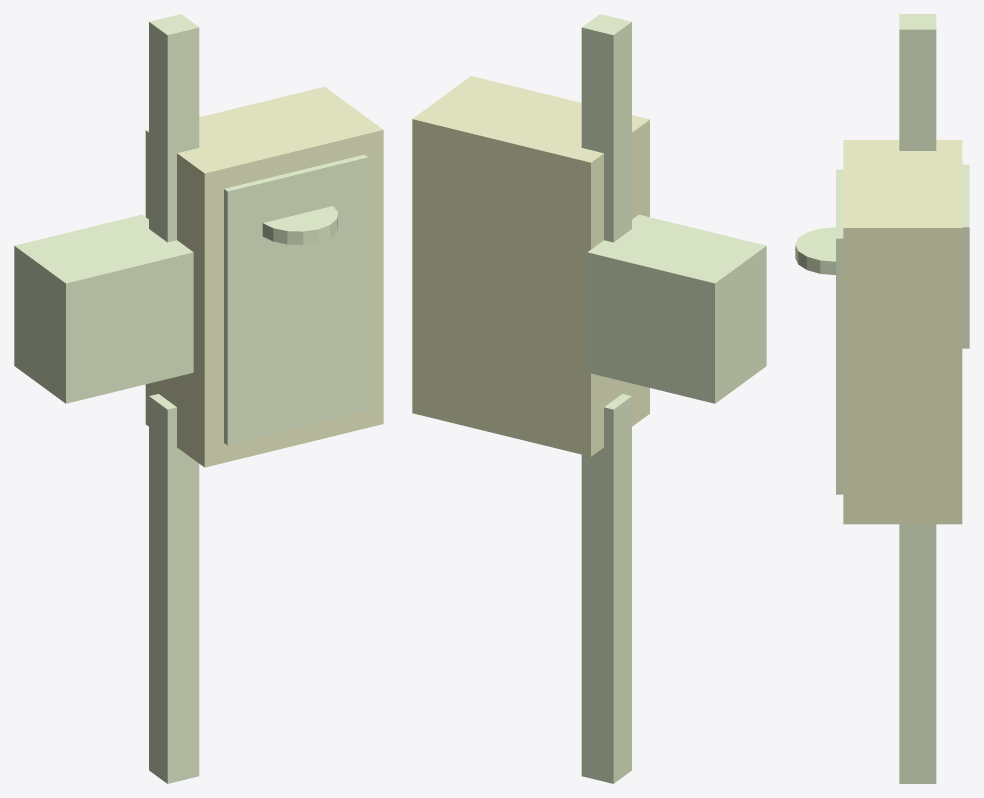
File: furniture_signal_service_disconnect.glb
3 renders of one model, left to right at view 1: azimuth 30°, elevation 25°; view 2: azimuth 150°, elevation 25°; view 3: azimuth 270°, elevation 25°, orthographic.
Visible parts, largest first — view 1: door, box, pole_band, conduit_lower, conduit_upper, meter_ring; view 2: box, pole_band, conduit_lower, conduit_upper; view 3: box, conduit_lower, conduit_upper, door, meter_ring, pole_band.
Part boxes in pixels (x1,y1,x2,y2): door: (224,154,368,445); box: (145,86,383,467); pole_band: (14,214,193,403); conduit_lower: (149,394,199,783); conduit_upper: (149,14,199,242); meter_ring: (262,206,337,244); box: (412,76,649,456); pole_band: (587,214,766,403); conduit_lower: (581,394,631,783); conduit_upper: (581,14,631,242); box: (843,140,962,524); conduit_lower: (899,524,936,783); conduit_upper: (899,14,936,150); door: (836,169,843,494); meter_ring: (795,227,835,275); pole_band: (962,164,969,348).
Bounding box in the file's own units: 0.48 × 1.12 × 0.235.
